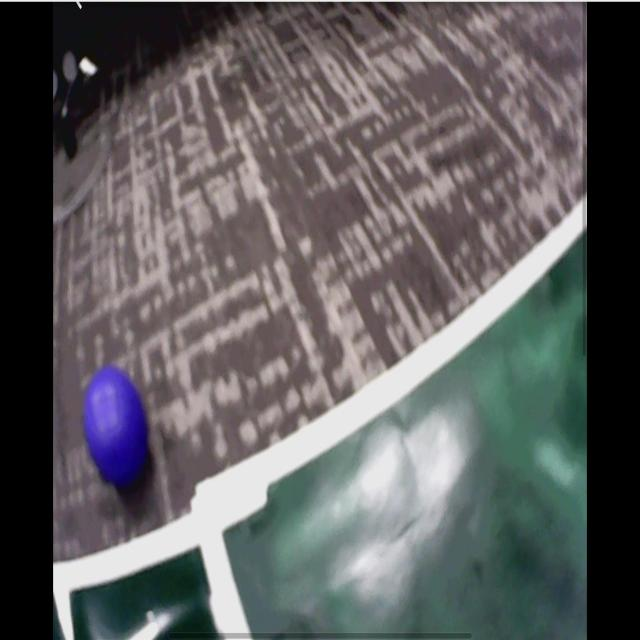ball: (83, 363, 151, 486)
